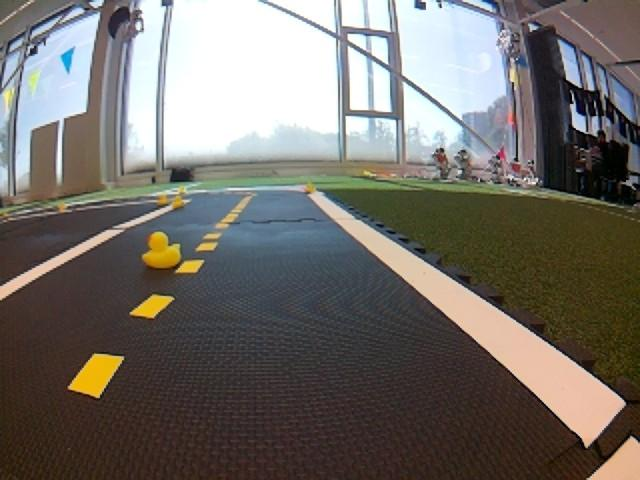Duckies: (143, 231, 179, 268), (171, 195, 184, 208), (304, 183, 315, 193), (156, 196, 169, 204), (57, 202, 67, 210), (178, 186, 187, 193)
